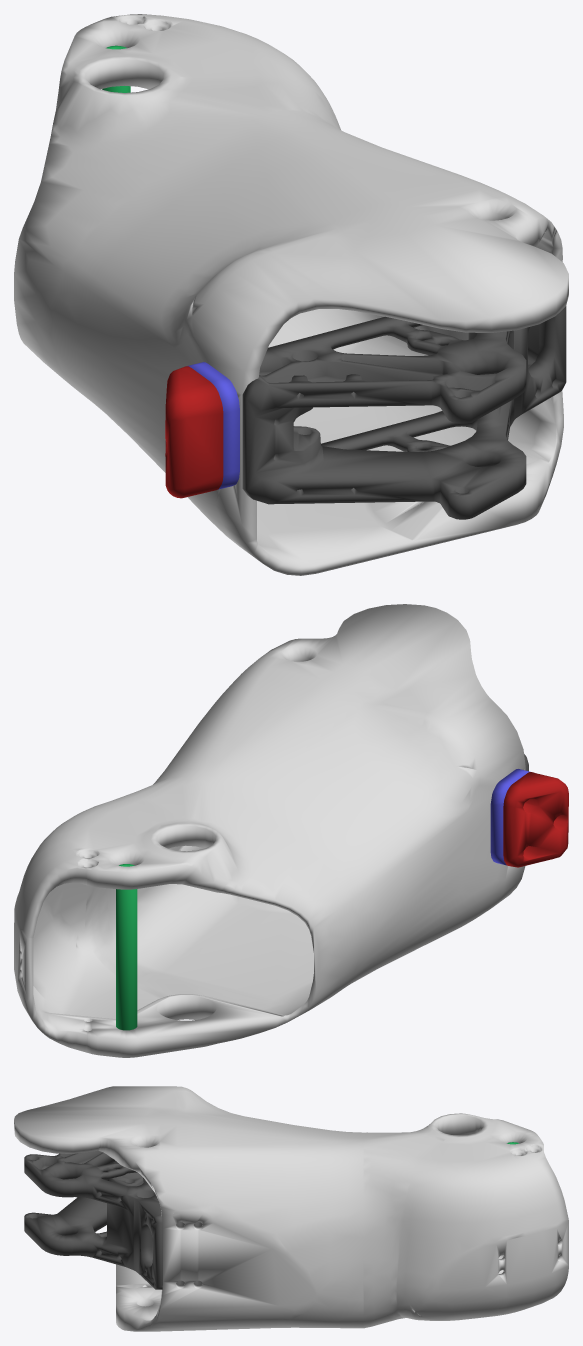
File: right_thigh.obj
3 renders of one model, top to bottom at view 1: azimuth 30°, elevation 25°; view 2: azimuth 150°, elevation 25°; view 3: azimuth 270°, elevation 25°, orthographic. The views are drawn at different scales.
Bounding box in the file's own units: 0.2619 × 0.17 × 0.4727.
